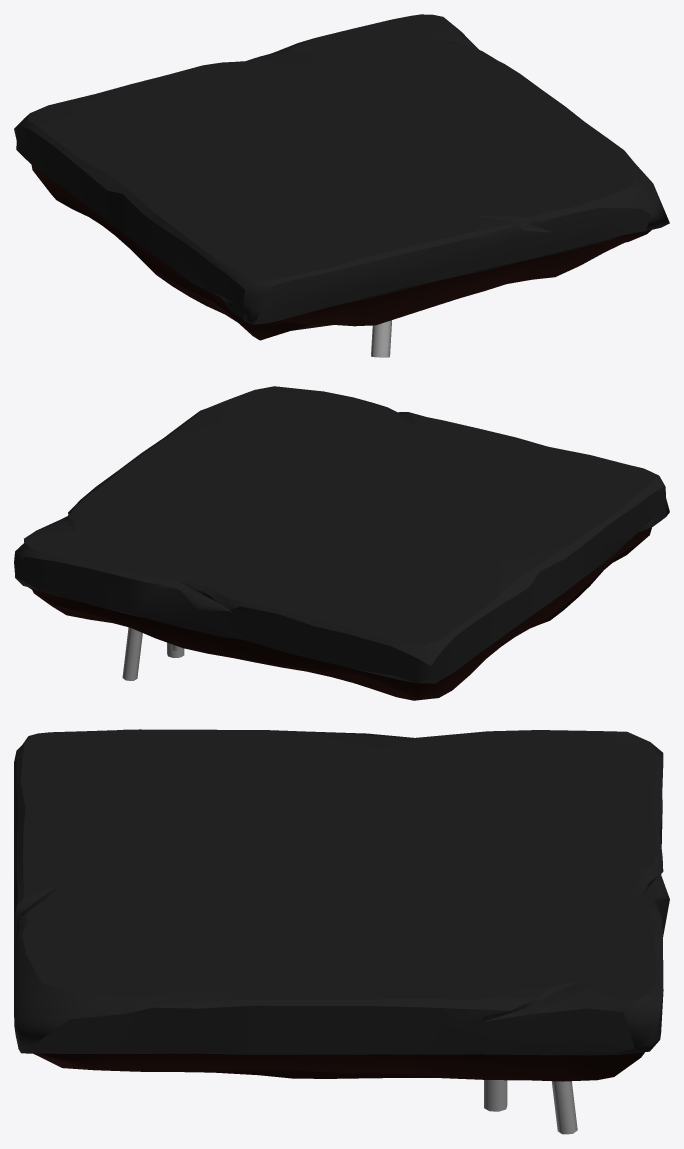
The model's file is OUT_PlatformeTuyau_Petit_Pierre_01_LOD0.fbx.
3 renders of one model, top to bottom at view 1: azimuth 30°, elevation 25°; view 2: azimuth 150°, elevation 25°; view 3: azimuth 270°, elevation 25°, orthographic. The views are drawn at different scales.
Parts seen in each view (by area): view 1: OUT_PlatformeTuyau_Petit_Pierre_01_LOD0; view 2: OUT_PlatformeTuyau_Petit_Pierre_01_LOD0; view 3: OUT_PlatformeTuyau_Petit_Pierre_01_LOD0.
Boxes of the visible parts, x1=… form: OUT_PlatformeTuyau_Petit_Pierre_01_LOD0: x1=14, y1=14, x2=669, y2=357; OUT_PlatformeTuyau_Petit_Pierre_01_LOD0: x1=14, y1=386, x2=669, y2=700; OUT_PlatformeTuyau_Petit_Pierre_01_LOD0: x1=14, y1=729, x2=669, y2=1134.
Bounding box in the file's own units: 400 × 124 × 401.
